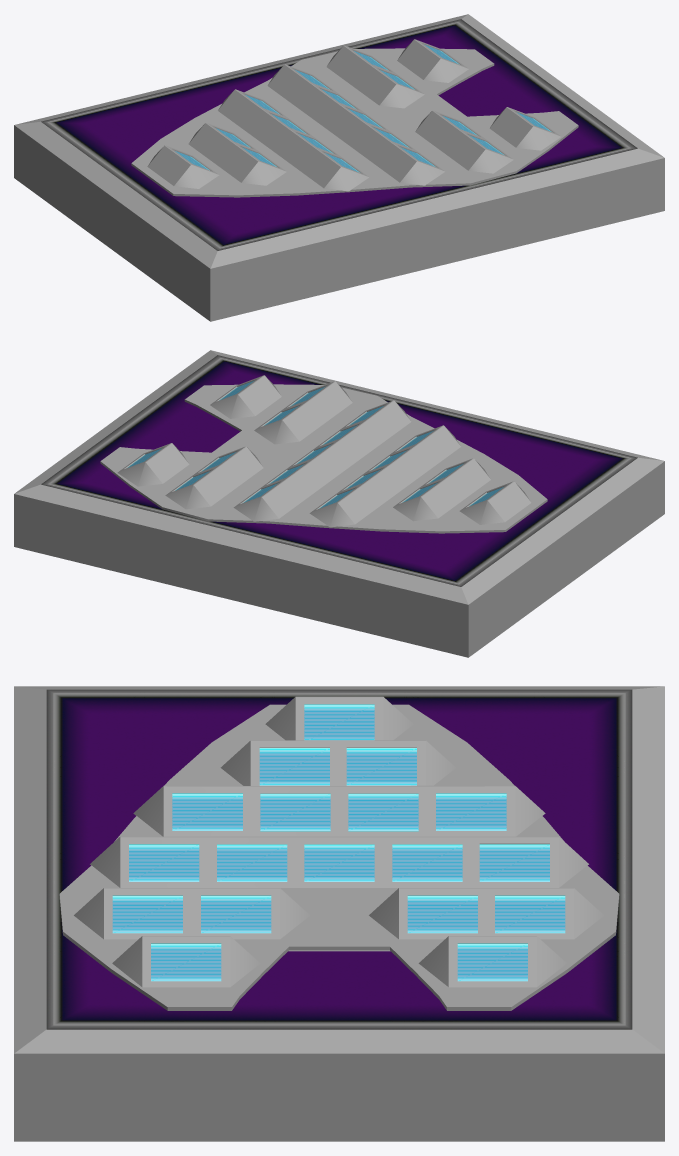
Rendered from Global_SpeedPad.fbx.
3 renders of one model, top to bottom at view 1: azimuth 30°, elevation 25°; view 2: azimuth 150°, elevation 25°; view 3: azimuth 270°, elevation 25°, orthographic. The views are drawn at different scales.
Parts seen in each view (by area): view 1: pCube2; view 2: pCube2; view 3: pCube2.
Part boxes in pixels (x1,y1,x2,y2): pCube2: (14, 14, 664, 321); pCube2: (14, 350, 664, 657); pCube2: (14, 686, 664, 1141).
Bounding box in the file's own units: 8.01 × 1.33 × 6.
